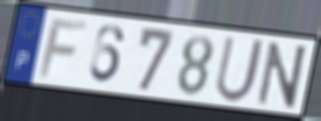6: (88, 23, 126, 86)
7: (136, 24, 176, 94)
8: (174, 31, 216, 99)
F: (36, 17, 90, 80)
N: (255, 40, 310, 110)
U: (213, 34, 268, 105)
